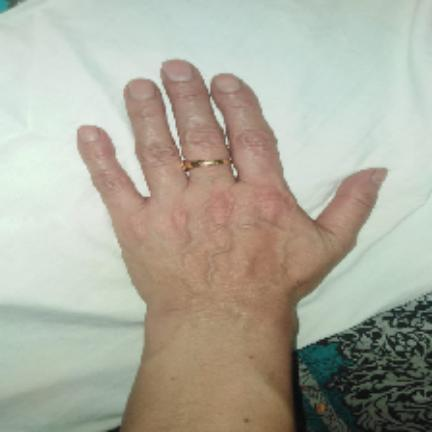Nail: (163, 60, 192, 81), (128, 79, 156, 99), (213, 73, 240, 93), (78, 125, 100, 143), (372, 168, 387, 184)
